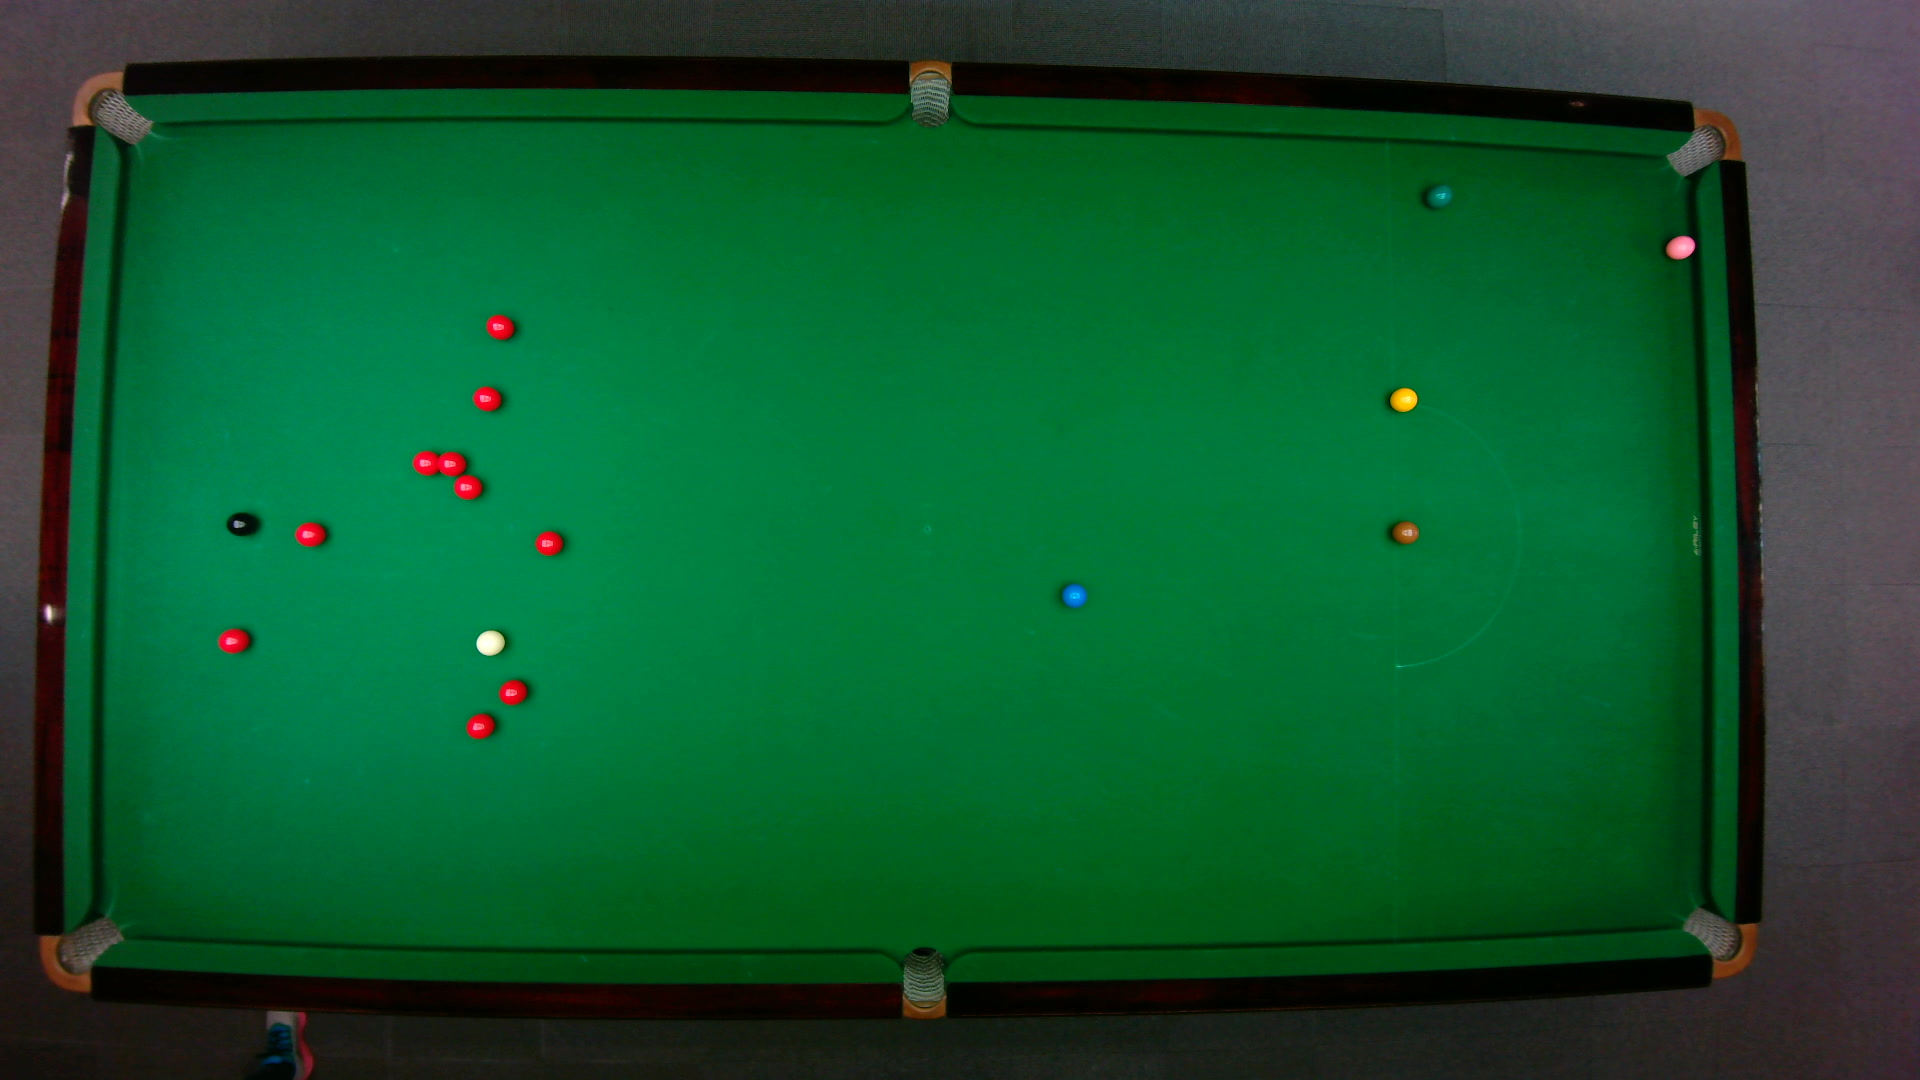bag: (37, 913, 125, 992), (69, 69, 153, 145), (1679, 905, 1756, 978), (1663, 108, 1741, 177), (901, 944, 944, 1021), (909, 57, 949, 128)
black: (224, 510, 257, 535)
blue: (1059, 582, 1087, 608)
brown: (1390, 520, 1419, 545)
green: (1423, 182, 1453, 208)
pink: (1663, 232, 1697, 260)
red: (215, 625, 251, 653), (496, 676, 527, 705), (463, 711, 496, 738), (293, 520, 326, 547), (531, 529, 564, 556), (469, 384, 502, 411), (484, 313, 516, 340), (410, 448, 442, 475), (451, 472, 483, 498), (436, 448, 467, 475)
white: (473, 628, 506, 655)
yellow: (1389, 385, 1418, 411)
zone: (1390, 401, 1520, 667)
